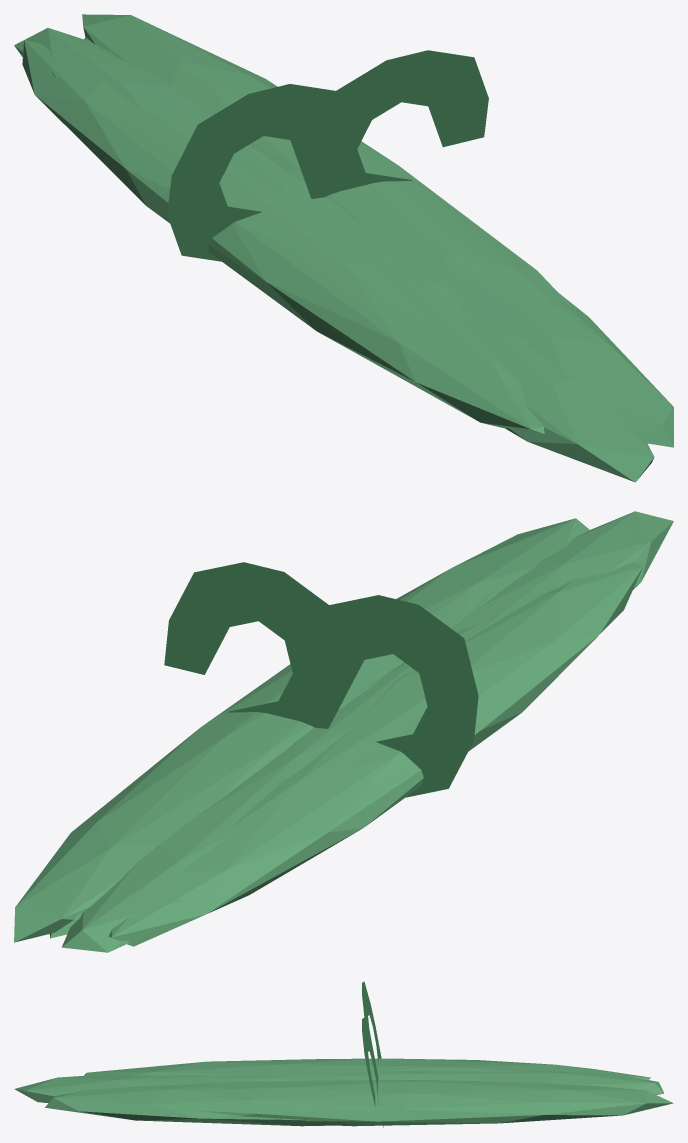
File: nephrolepis-biserrata.glb
The picture shows the model from 3 angles, top to bottom: view 1: azimuth 30°, elevation 25°; view 2: azimuth 150°, elevation 25°; view 3: azimuth 270°, elevation 25°; orthographic projection. The views are drawn at different scales.
Visible parts, largest first — view 1: frond3, frond0, fiddle-1, fiddle1, frond2, frond4, frond1; view 2: frond3, frond0, fiddle1, fiddle-1, frond4, frond2, frond1; view 3: frond0, frond1, frond3, frond4, frond2, fiddle1, fiddle-1.
Part boxes in pixels (<box>): frond3: <box>22,40,544,434</box>; frond0: <box>82,14,577,312</box>; fiddle-1: <box>167,84,349,261</box>; fiddle1: <box>305,50,488,198</box>; frond2: <box>448,294,654,482</box>; frond4: <box>14,28,467,320</box>; frond1: <box>468,284,673,447</box>; frond3: <box>108,562,643,946</box>; frond0: <box>14,601,432,942</box>; fiddle1: <box>164,562,343,728</box>; fiddle-1: <box>299,595,478,797</box>; frond4: <box>61,621,484,952</box>; frond2: <box>451,511,673,632</box>; frond1: <box>396,518,589,627</box>; frond0: <box>198,1080,673,1126</box>; frond1: <box>45,1083,347,1126</box>; frond3: <box>84,1058,650,1080</box>; frond4: <box>209,1069,664,1094</box>; frond2: <box>14,1074,239,1103</box>; fiddle1: <box>362,1018,383,1127</box>; fiddle-1: <box>362,981,381,1062</box>.
Bounding box in the file's own units: 0.184 × 0.1056 × 0.6177.
